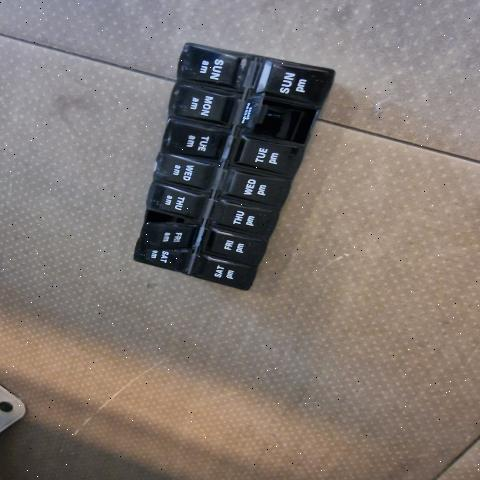Open: (247, 102, 319, 142), (145, 210, 202, 223)
